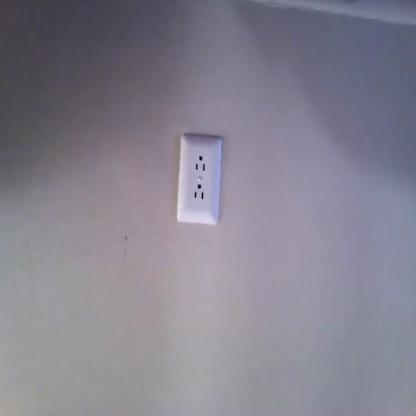OUTLET: (176, 136, 222, 226)
